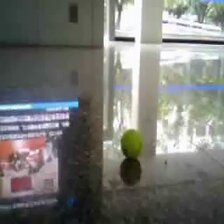tennis: (121, 129, 144, 157)
